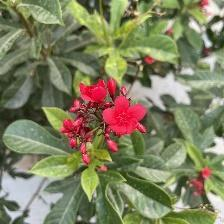jatropha: (102, 95, 150, 141)
